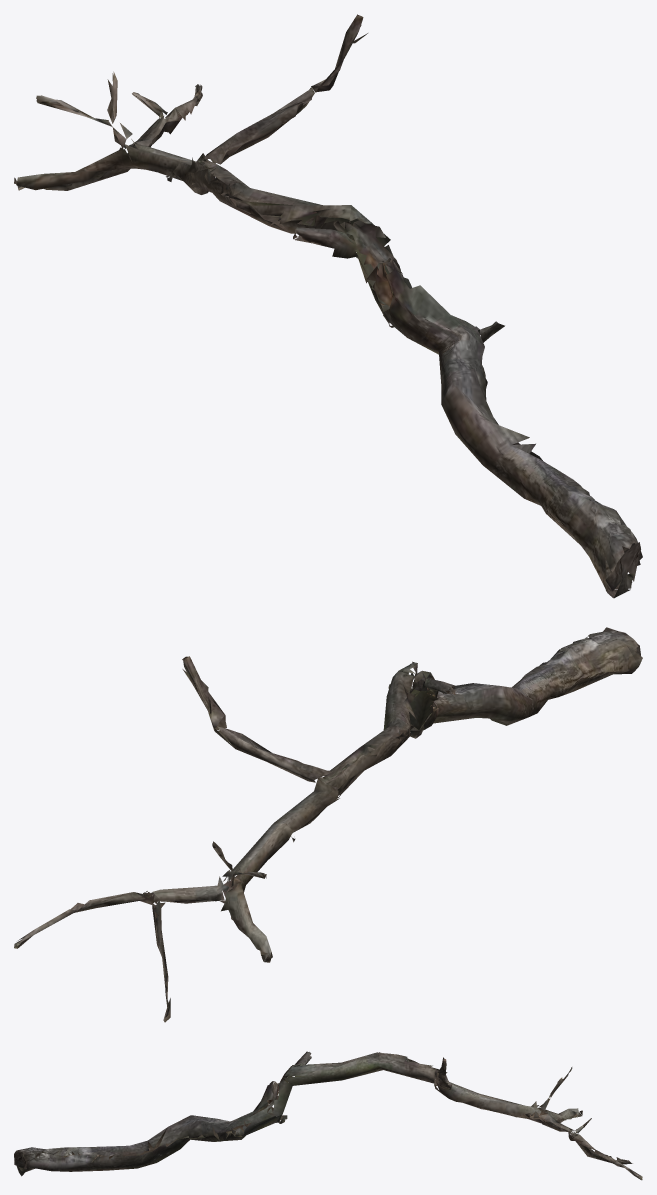
File: branch_a.glb
3 views of the same model, one above another, from view 1: azimuth 30°, elevation 25°; view 2: azimuth 150°, elevation 25°; view 3: azimuth 270°, elevation 25° (orthographic). The views are drawn at different scales.
Visible parts, largest first — view 1: dry_branches_medium_01_a; view 2: dry_branches_medium_01_a; view 3: dry_branches_medium_01_a.
Part boxes in pixels (x1,y1,x2,y2): dry_branches_medium_01_a: (14, 14, 642, 598); dry_branches_medium_01_a: (14, 627, 642, 1022); dry_branches_medium_01_a: (14, 1051, 642, 1180).
Size of the model in its own units: 0.3202 by 0.3399 by 1.3.
Materials: 1 (1 with a texture image).
